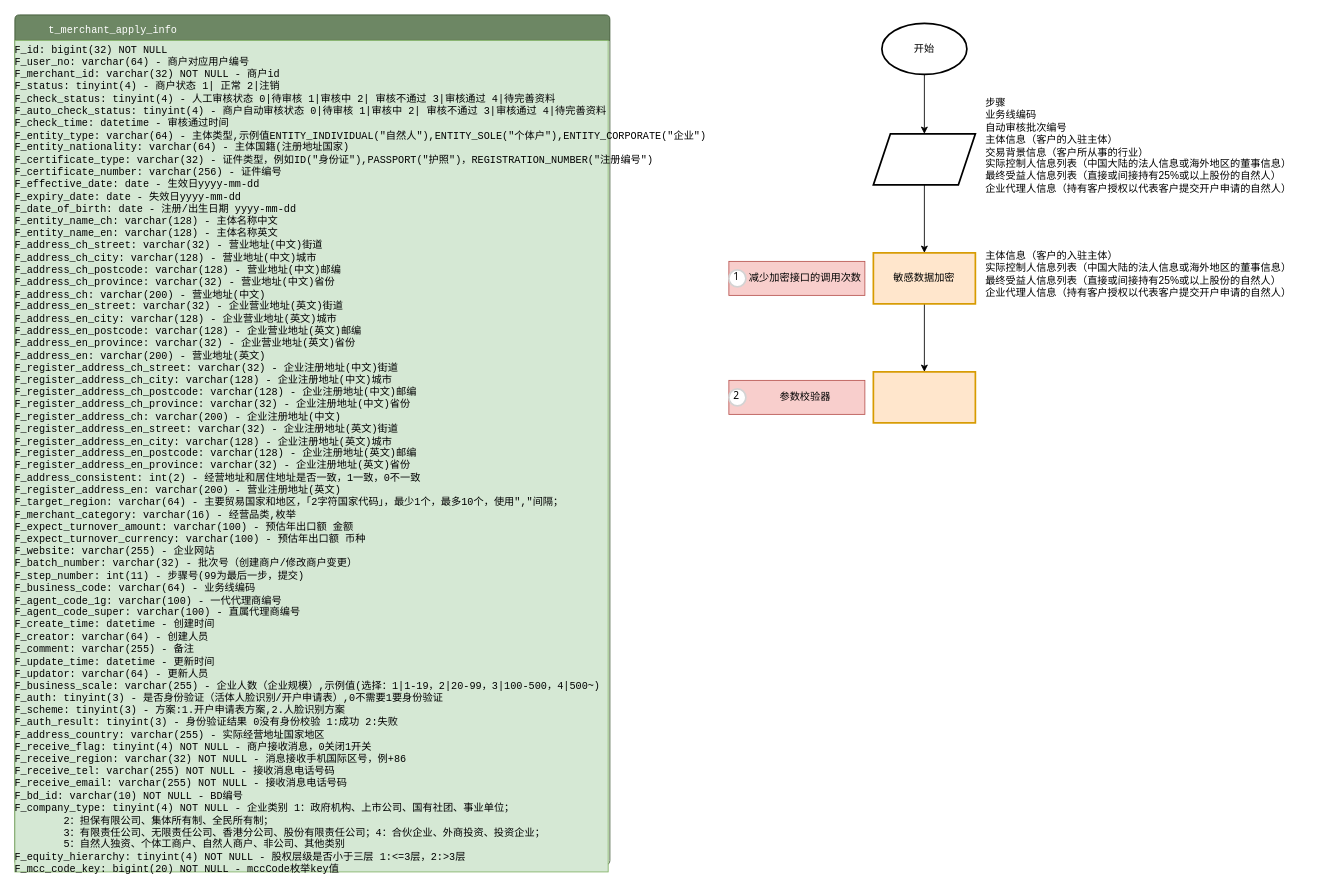
This 1330x892 diagram has some shape labels left out. The shapes that lost their labels are listed below. From the top down, each one's centre as x and y in pixels, then its label:
point (924, 159): 入驻申请资料
point (924, 397): 参数校验
